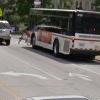Bus: (26, 3, 100, 60)
